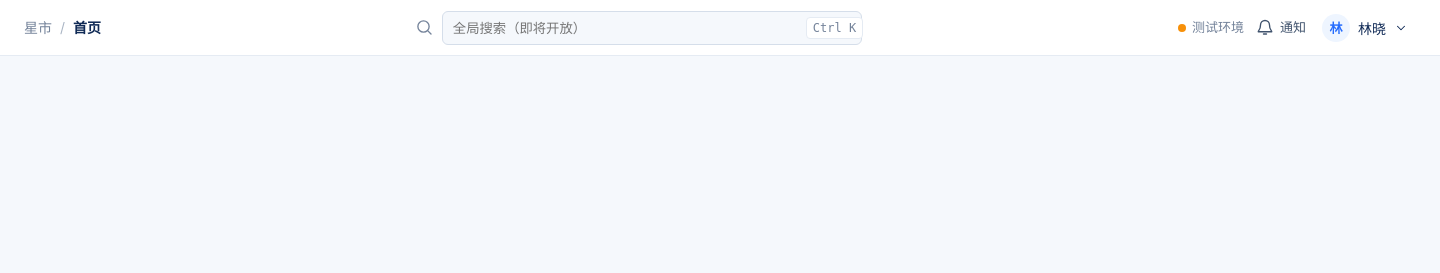
Test: AUTH4 header position › shows 暂无 only when there is no primary position
Click the button with test id "shell-user". click: {"x": 1367, "y": 28}
box: [1318,10,1416,44]
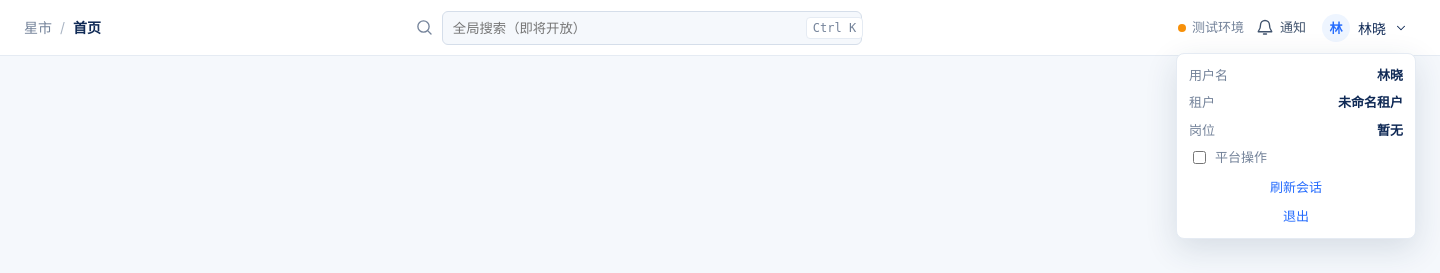
Now the text with test id "shell-position" reads "暂无", box [1377,122,1403,138]
